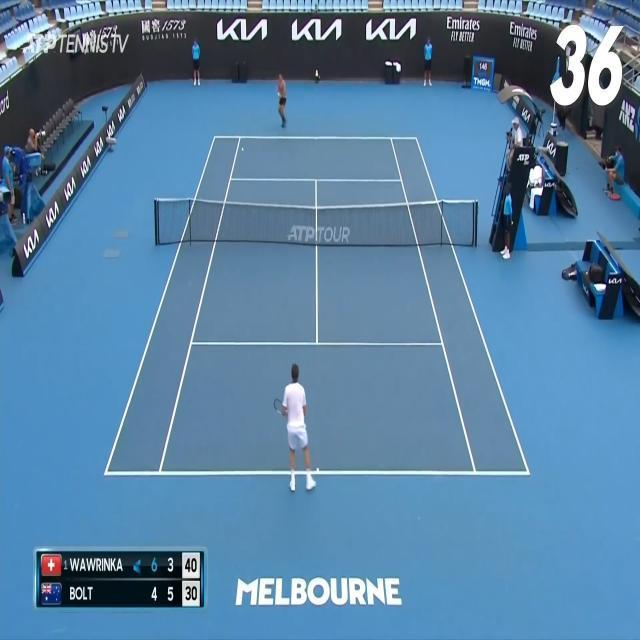court: (103, 136, 531, 477)
net: (154, 198, 478, 248)
player: (274, 363, 316, 492)
